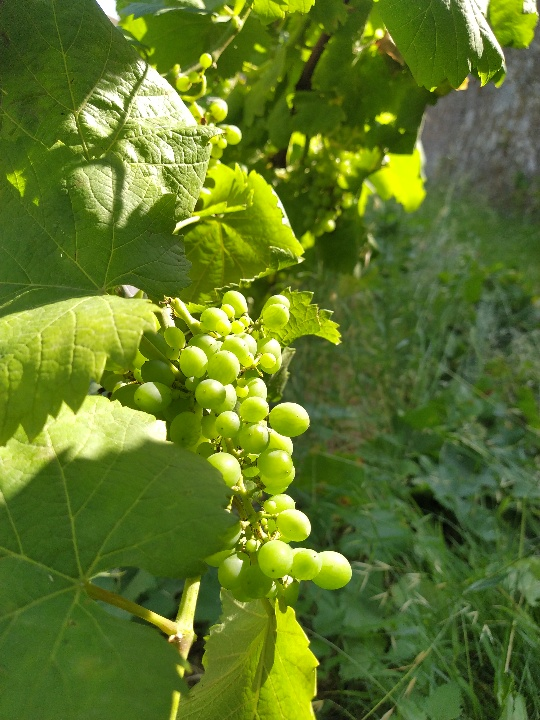grape: (124, 272, 354, 607)
